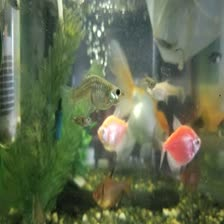Guppy: (57, 71, 129, 107)
Plano: (151, 120, 202, 166), (94, 111, 130, 151)
Transparente: (89, 167, 133, 212)
